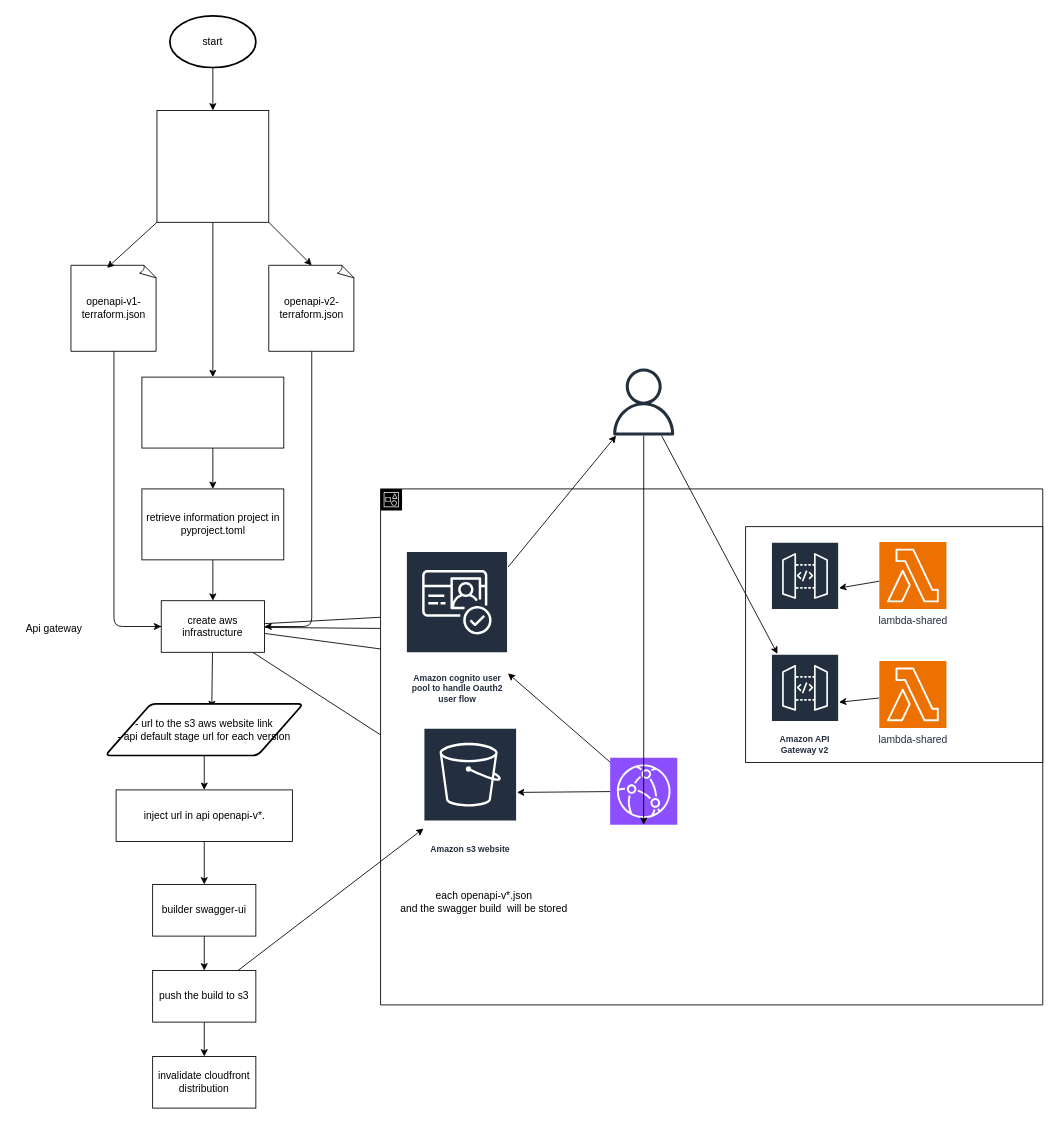
Image size: 1058x1123. Some labels were removed from this diagram. Here are the shapes that lost their labels. From the top down, the box of each, then its label:
(156, 110, 269, 222): For each version in versions generate openapi-version-terraform.json
(141, 376, 284, 448): check if all env variable defined in differents routes are declared in terraform
(610, 368, 677, 435): api user
(770, 541, 839, 646): Amazon API Gateway v1
(745, 526, 1043, 762): Create an amazon api gateway rest for each version
(380, 488, 1043, 1005): AWS Account for given stage
(609, 757, 677, 825): cloudfront distribution
